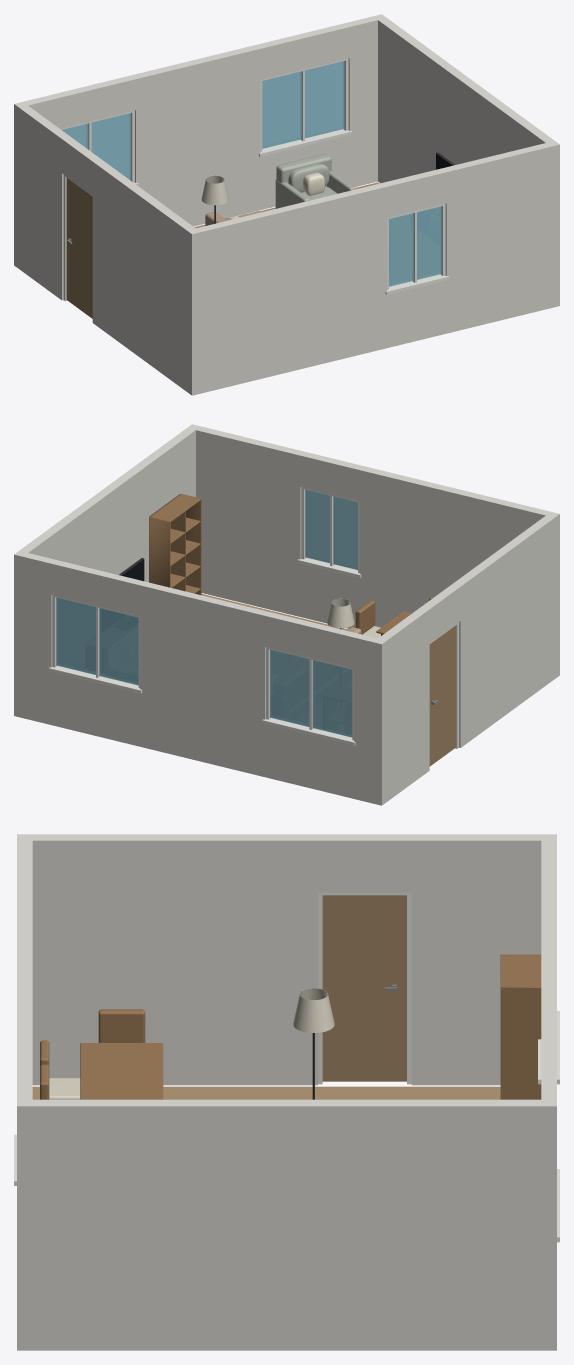
The model's file is oursv11b.glb.
3 renders of one model, top to bottom at view 1: azimuth 30°, elevation 25°; view 2: azimuth 150°, elevation 25°; view 3: azimuth 270°, elevation 25°, orthographic. The views are drawn at different scales.
Parts seen in each view (by area): view 1: wall|scenesmith_043__R00|0, wall|scenesmith_043__R00|1, wall|scenesmith_043__R00|2, wall|scenesmith_043__R00|3, wall|scenesmith_043__R00|1 Window 0 | glazing, wall|scenesmith_043__R00|0 Window 0 | glazing, wall|scenesmith_043__R00|2 Door 0 | wood leaf, wall|scenesmith_043__R00|1 Window 0 | jamb, Back upholstered shell.001, wall|scenesmith_043__R00|0 Window 0 | jamb, Lampshade, wall|scenesmith_043__R00|2 Door 0 | jamb; view 2: wall|scenesmith_043__R00|1, wall|scenesmith_043__R00|0, wall|scenesmith_043__R00|2, wall|scenesmith_043__R00|1 Window 0 | glazing, wall|scenesmith_043__R00|3, Backrest, wall|scenesmith_043__R00|1 Window 0 | jamb, wall|scenesmith_043__R00|0 Window 0 | glazing, wall|scenesmith_043__R00|2 Door 0 | wood leaf, wall|scenesmith_043__R00|0 Window 0 | jamb, Lampshade; view 3: wall|scenesmith_043__R00|3, wall|scenesmith_043__R00|2, wall|scenesmith_043__R00|2 Door 0 | wood leaf, Backrest, wall|scenesmith_043__R00|1, floor, wall|scenesmith_043__R00|0, Lampshade, wall|scenesmith_043__R00|2 Door 0 | jamb, wall|scenesmith_043__R00|1 Window 0 | jamb.
Boxes of the visible parts, <box> form: wall|scenesmith_043__R00|0: <box>196,141,559,393</box>; wall|scenesmith_043__R00|1: <box>14,14,386,268</box>; wall|scenesmith_043__R00|2: <box>14,102,200,395</box>; wall|scenesmith_043__R00|3: <box>378,18,559,307</box>; wall|scenesmith_043__R00|1 Window 0 | glazing: <box>62,61,344,180</box>; wall|scenesmith_043__R00|0 Window 0 | glazing: <box>389,206,441,286</box>; wall|scenesmith_043__R00|2 Door 0 | wood leaf: <box>66,178,92,318</box>; wall|scenesmith_043__R00|1 Window 0 | jamb: <box>60,58,352,186</box>; Back upholstered shell.001: <box>275,154,355,208</box>; wall|scenesmith_043__R00|0 Window 0 | jamb: <box>385,203,449,294</box>; Lampshade: <box>201,175,228,205</box>; wall|scenesmith_043__R00|2 Door 0 | jamb: <box>63,175,92,301</box>; wall|scenesmith_043__R00|1: <box>14,551,386,805</box>; wall|scenesmith_043__R00|0: <box>188,424,550,628</box>; wall|scenesmith_043__R00|2: <box>373,512,559,801</box>; wall|scenesmith_043__R00|1 Window 0 | glazing: <box>56,597,352,737</box>; wall|scenesmith_043__R00|3: <box>19,424,199,582</box>; Backrest: <box>149,493,433,634</box>; wall|scenesmith_043__R00|1 Window 0 | jamb: <box>48,595,355,745</box>; wall|scenesmith_043__R00|0 Window 0 | glazing: <box>305,489,357,569</box>; wall|scenesmith_043__R00|2 Door 0 | wood leaf: <box>429,625,455,766</box>; wall|scenesmith_043__R00|0 Window 0 | jamb: <box>297,487,361,578</box>; Lampshade: <box>327,598,380,638</box>; wall|scenesmith_043__R00|3: <box>17,1099,556,1350</box>; wall|scenesmith_043__R00|2: <box>17,834,556,1085</box>; wall|scenesmith_043__R00|2 Door 0 | wood leaf: <box>322,895,406,1081</box>; Backrest: <box>40,954,541,1099</box>; wall|scenesmith_043__R00|1: <box>541,840,556,1350</box>; floor: <box>32,1086,500,1099</box>; wall|scenesmith_043__R00|0: <box>17,840,32,1106</box>; Lampshade: <box>49,988,334,1099</box>; wall|scenesmith_043__R00|2 Door 0 | jamb: <box>318,892,411,1084</box>; wall|scenesmith_043__R00|1 Window 0 | jamb: <box>538,1011,559,1242</box>.
Size of the model in its own units: 6.2 by 2.61 by 5.26.
